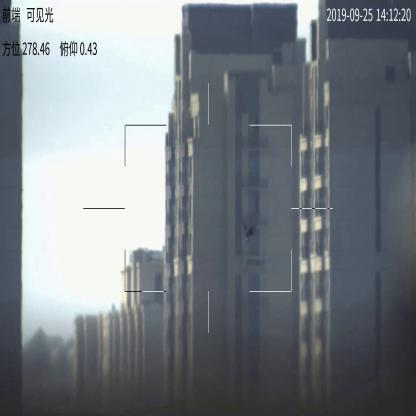uav: (243, 220, 259, 243)
